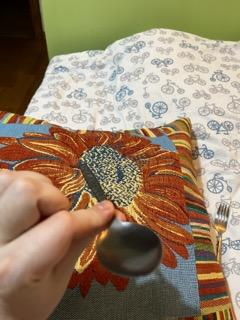spoon: (76, 161, 166, 280)
